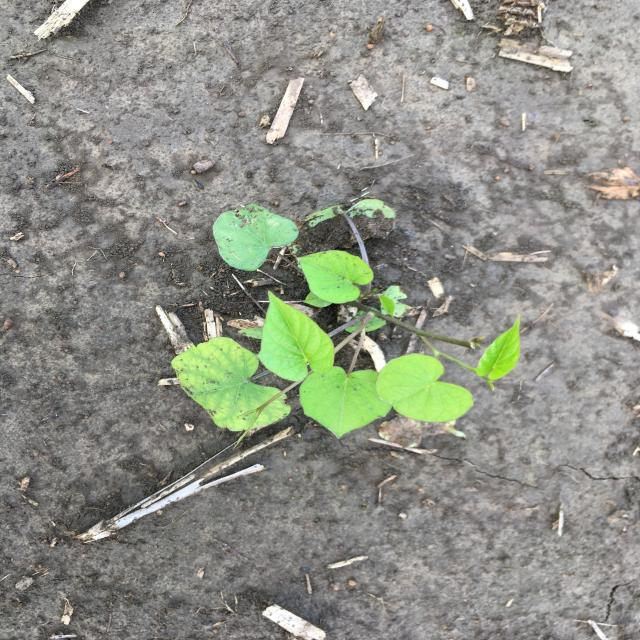MorningGlory: (168, 197, 524, 449)
